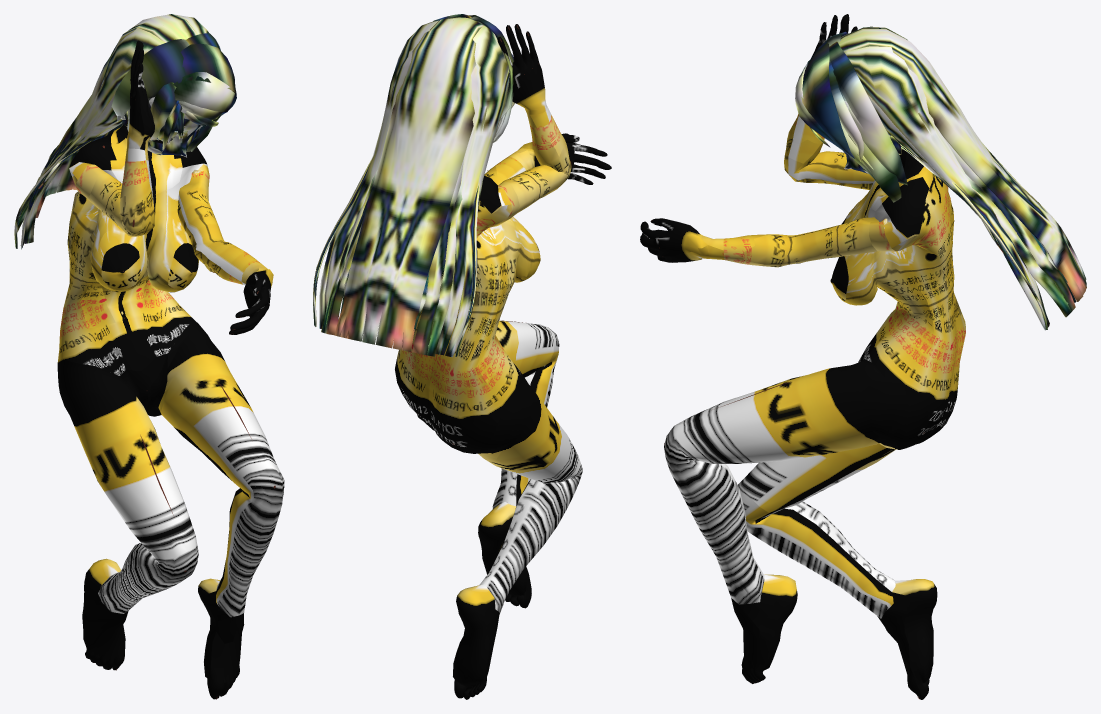
Rendered from acostadaDakima.obj.
3 renders of one model, left to right at view 1: azimuth 30°, elevation 25°; view 2: azimuth 150°, elevation 25°; view 3: azimuth 270°, elevation 25°, orthographic. The views are drawn at different scales.
Parts seen in each view (by area): view 1: SaraTe01_mesh.001_SaraTe01.001; view 2: SaraTe01_mesh.001_SaraTe01.001; view 3: SaraTe01_mesh.001_SaraTe01.001.
Boxes of the visible parts, box(x1,y1,x2,y2) form: SaraTe01_mesh.001_SaraTe01.001: box(14, 14, 284, 699); SaraTe01_mesh.001_SaraTe01.001: box(313, 14, 611, 699); SaraTe01_mesh.001_SaraTe01.001: box(640, 14, 1086, 699).
Bounding box in the file's own units: 4.4 × 18.29 × 10.88.
